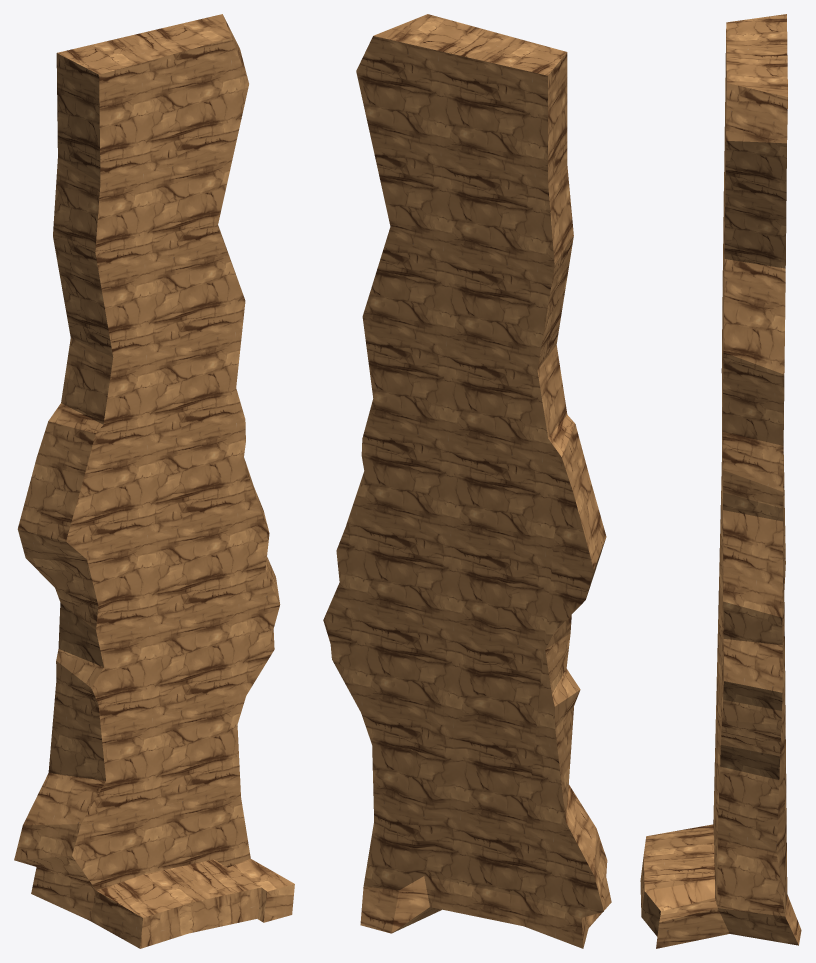
Rendered from plano5.obj.
3 views of the same model, side by side, from view 1: azimuth 30°, elevation 25°; view 2: azimuth 150°, elevation 25°; view 3: azimuth 270°, elevation 25° (orthographic). The views are drawn at different scales.
Visible parts, largest first — view 1: Plane.023_Plane.024; view 2: Plane.023_Plane.024; view 3: Plane.023_Plane.024.
Part boxes in pixels (x1,y1,x2,y2): Plane.023_Plane.024: [14, 14, 294, 948]; Plane.023_Plane.024: [323, 14, 611, 948]; Plane.023_Plane.024: [640, 14, 801, 948].
Bounding box in the file's own units: 495 × 1533 × 261.
1 material, 1 textured.
